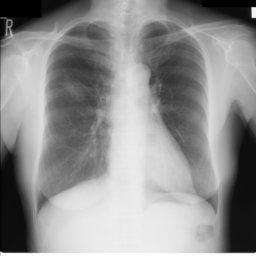left lobe: (142, 22, 216, 198)
right lobe: (41, 23, 113, 198)
